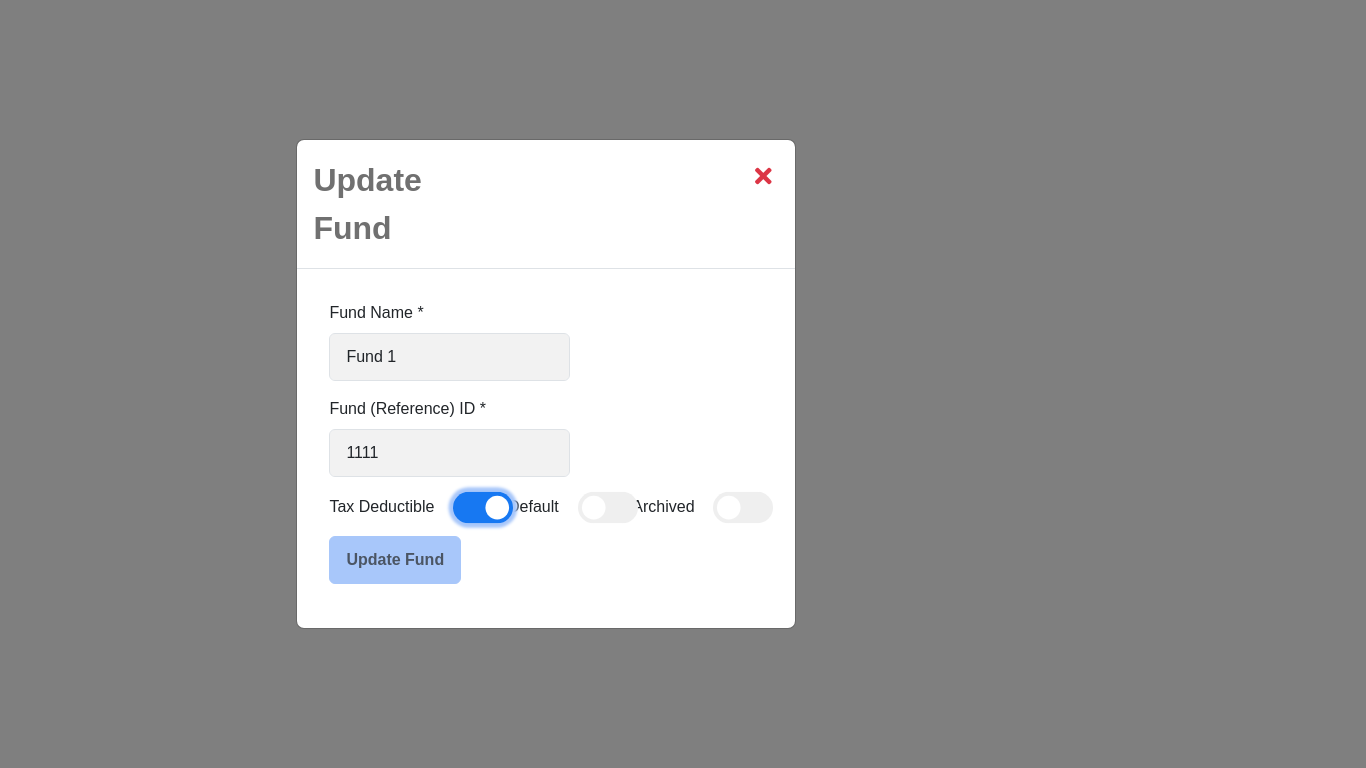
Scenario: PledgeModal › should show required error when Fund Name is empty and touched
Clear the input (this already makes it empty)
Clear the field labelled "Fund Name *". click: (450, 357)
box: [329,332,570,381]
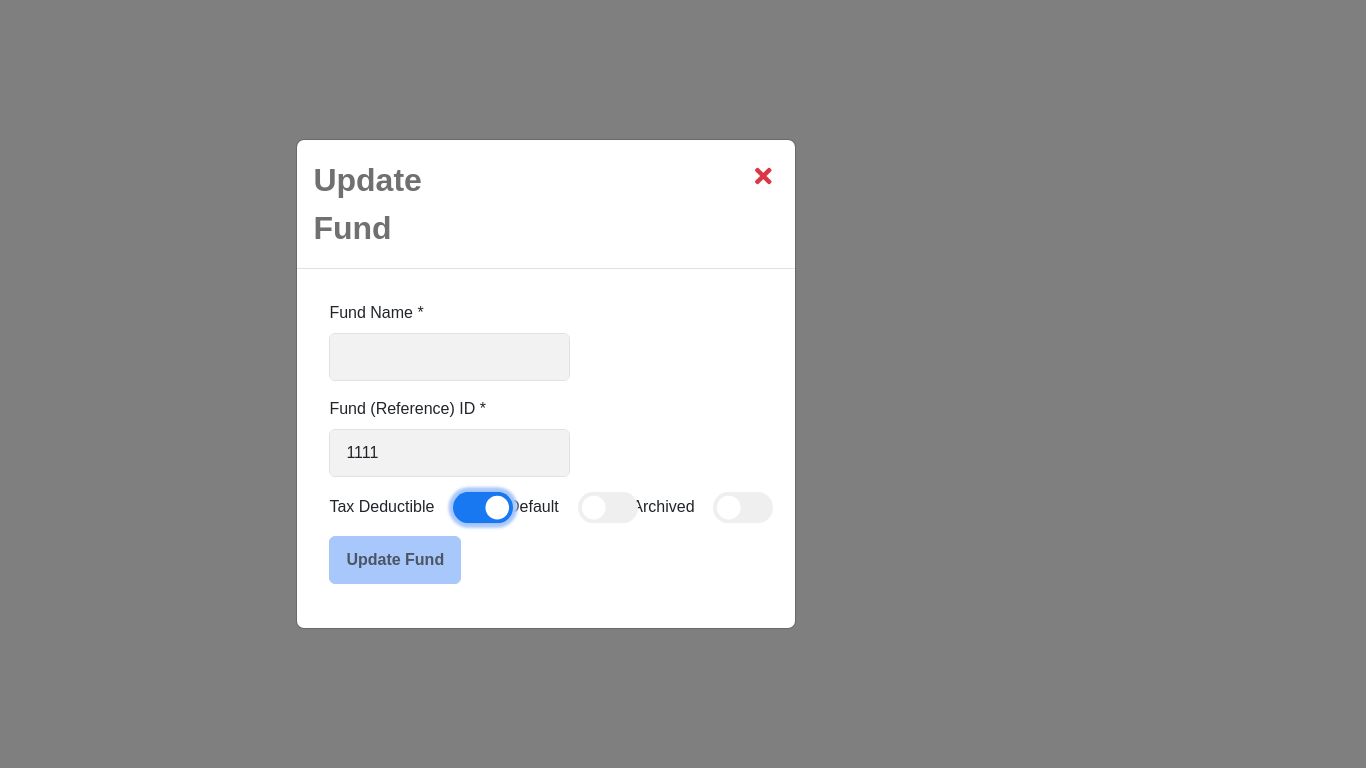
Trigger blur to mark as touched
Press Tab
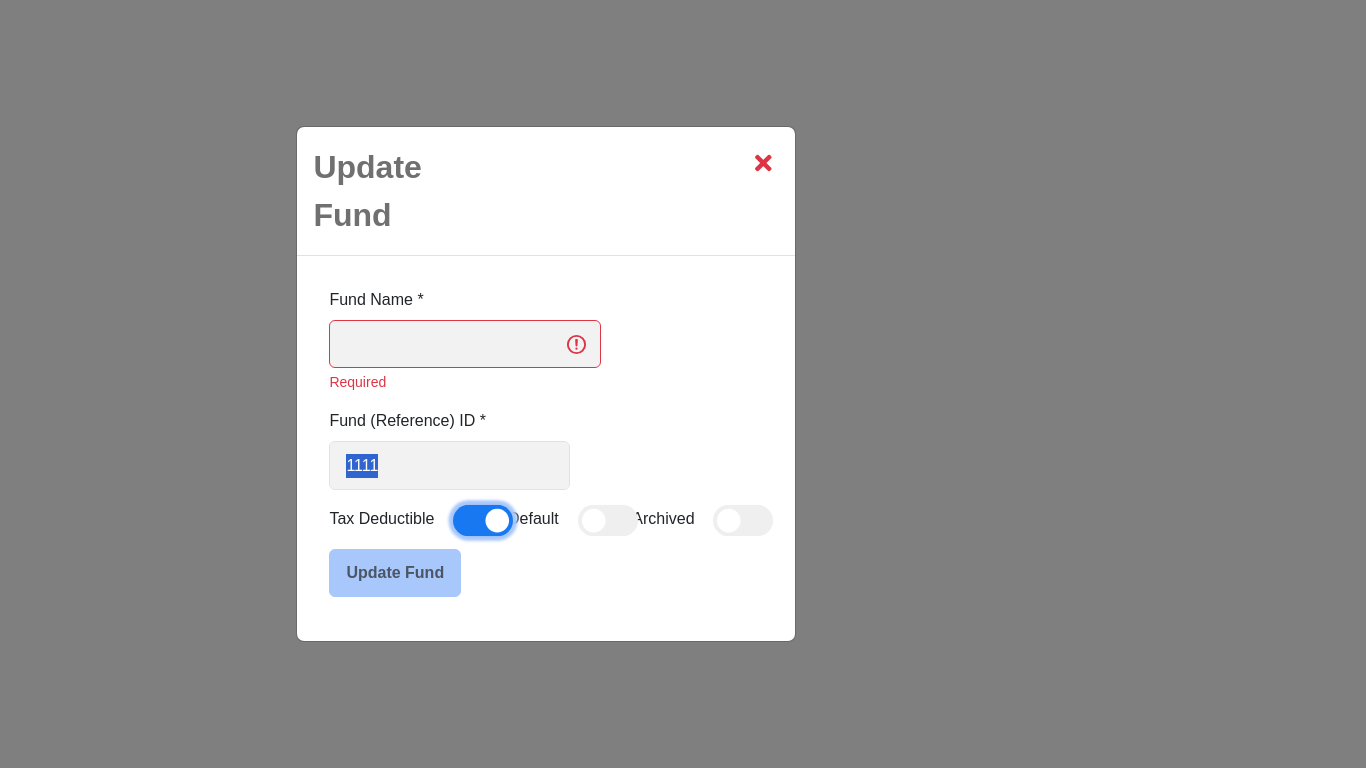
expect the text "Required" is shown: met, box [329,374,386,390]
